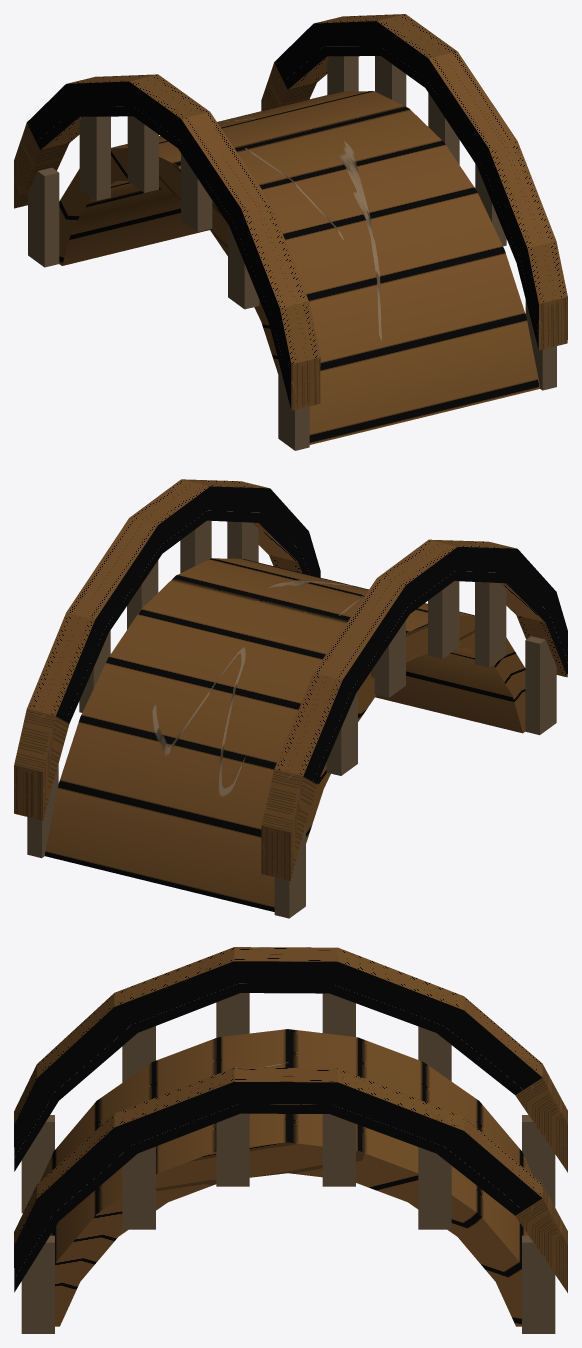
Rendered from beidge.FBX.
The picture shows the model from 3 angles, top to bottom: view 1: azimuth 30°, elevation 25°; view 2: azimuth 150°, elevation 25°; view 3: azimuth 270°, elevation 25°; orthographic projection.
Parts seen in each view (by area): view 1: Cone001, Box007, Box014, Box001, Box004, Box005, Box006, Box002, Box003, Box011, Box012, Box009 (+2 smaller); view 2: Cone001, Box007, Box014, Box002, Box003, Box006, Box005, Box001, Box004, Box010, Box013, Box008 (+2 smaller); view 3: Cone001, Box007, Box014, Box008, Box009, Box011, Box010, Box013, Box012, Box001, Box002, Box006 (+3 smaller).
Boxes of the visible parts, x1,y1,x2,y2 form: Cone001: (59,91,539,444); Box007: (14,74,320,410); Box014: (261,14,567,350); Box001: (28,167,59,267); Box004: (79,116,110,200); Box005: (127,116,158,192); Box006: (181,153,212,231); Box002: (278,361,309,450); Box003: (228,224,259,309); Box011: (327,56,358,94); Box012: (375,56,406,106); Box009: (525,300,556,390); Cone001: (45,558,525,911); Box007: (261,539,567,880); Box014: (14,479,320,820); Box002: (525,636,556,735); Box003: (475,582,506,667); Box006: (428,581,459,658); Box005: (374,620,405,697); Box001: (274,825,305,918); Box004: (326,691,357,775); Box010: (227,521,258,562); Box013: (180,520,211,573); Box008: (27,764,58,858); Cone001: (40,1029,532,1326); Box007: (14,947,567,1172); Box014: (14,1067,567,1292); Box008: (522,1235,555,1333); Box009: (21,1235,54,1333); Box011: (418,1147,451,1229); Box010: (122,1146,155,1229); Box013: (216,1113,249,1186); Box012: (322,1114,355,1186); Box001: (522,1115,555,1206); Box002: (21,1115,54,1213); Box006: (216,993,249,1037).
Size of the model in its own units: 95.03 by 165 by 84.03.
Materials: 2 (2 with a texture image).
